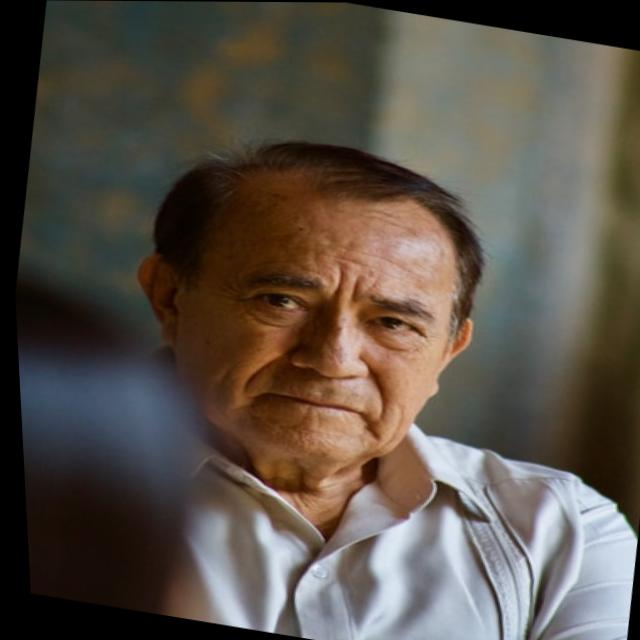wrinkle: (318, 252, 367, 266), (375, 255, 411, 271), (367, 266, 401, 280), (334, 245, 363, 252), (262, 259, 290, 261), (248, 261, 262, 264)
